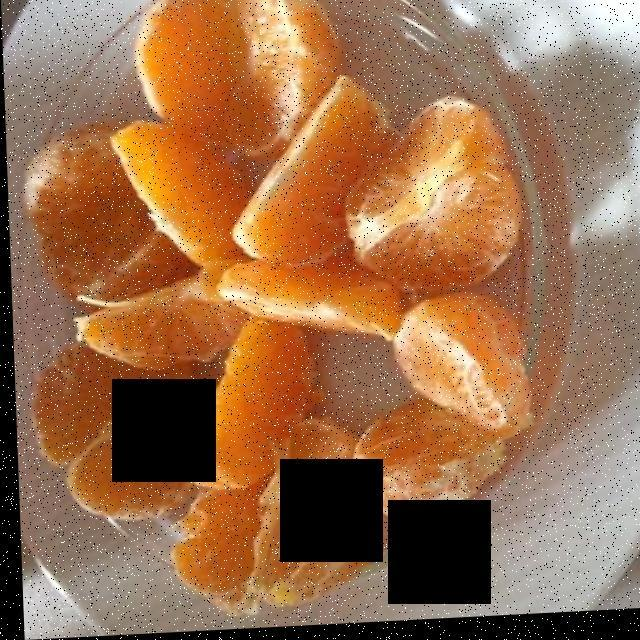mandarine: (28, 2, 519, 612)
